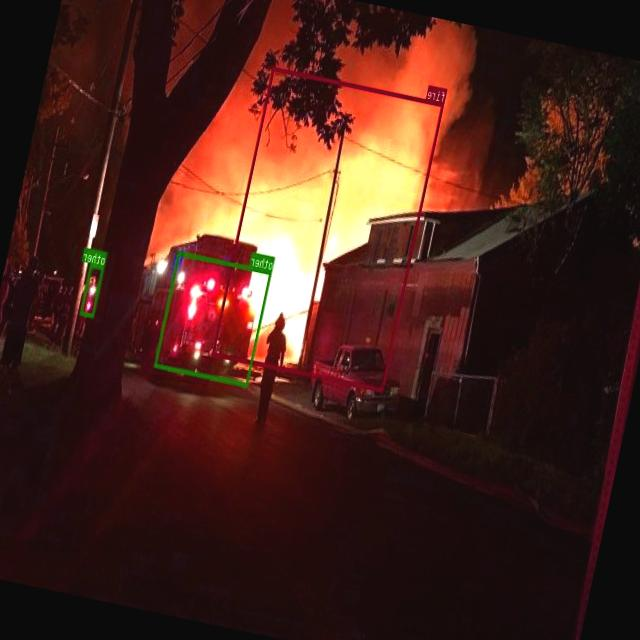fire: (212, 65, 444, 391)
